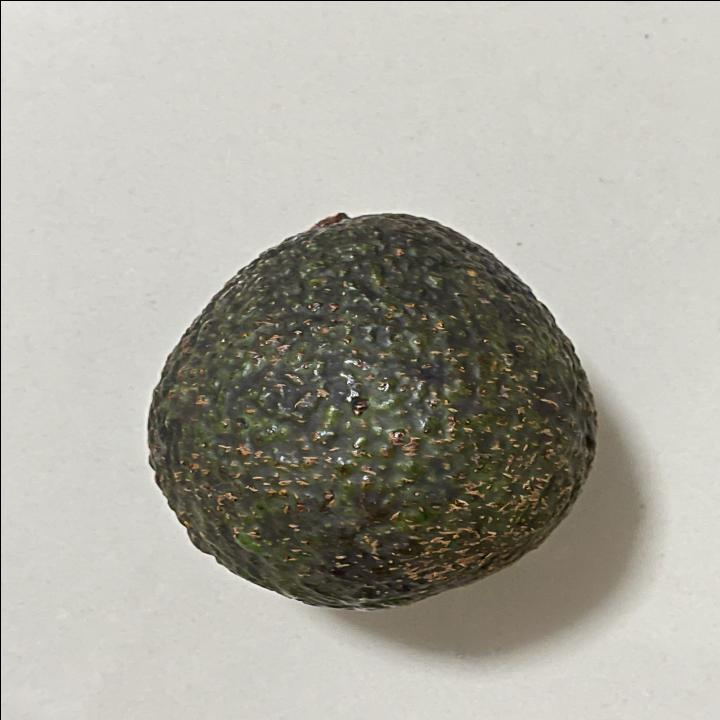Level1: (133, 194, 610, 616)
